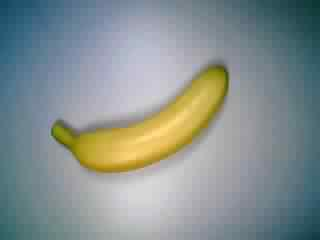banana: (48, 63, 235, 175)
